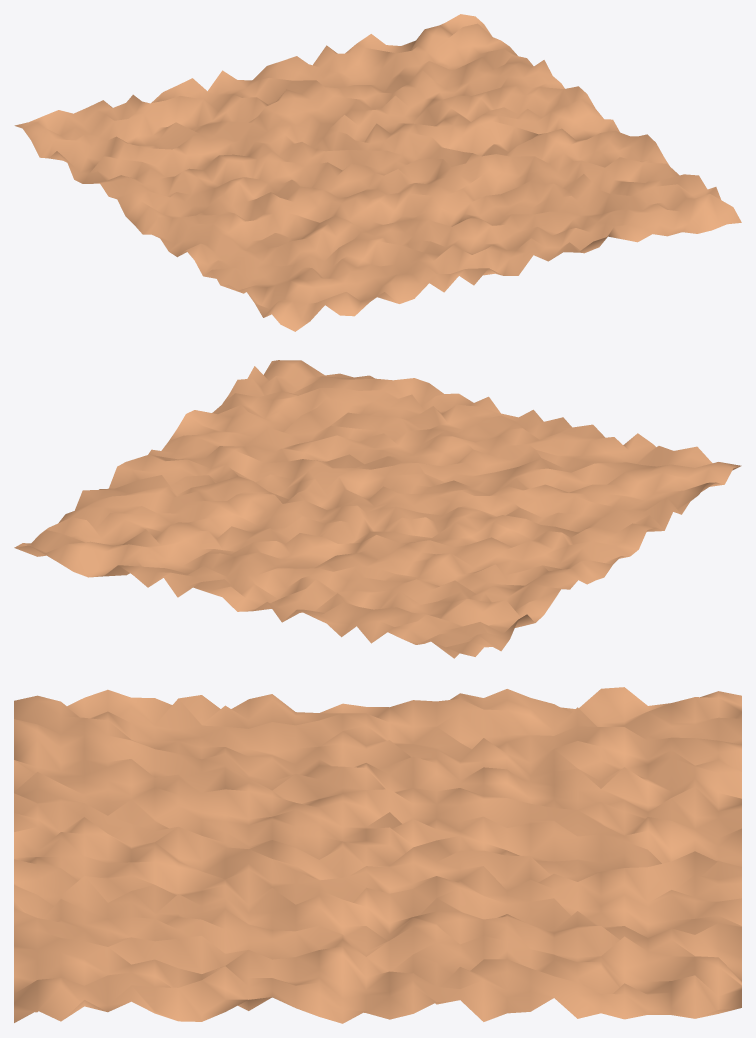
Rendered from terreno_lev1.glb.
3 renders of one model, top to bottom at view 1: azimuth 30°, elevation 25°; view 2: azimuth 150°, elevation 25°; view 3: azimuth 270°, elevation 25°, orthographic. The views are drawn at different scales.
Visible parts, largest first — view 1: terreno_lev1; view 2: terreno_lev1; view 3: terreno_lev1.
Boxes of the visible parts, x1,y1,x2,y2 form: terreno_lev1: [14, 14, 741, 331]; terreno_lev1: [14, 360, 741, 658]; terreno_lev1: [14, 687, 741, 1023].
Size of the model in its own units: 20 by 0.8972 by 20.
